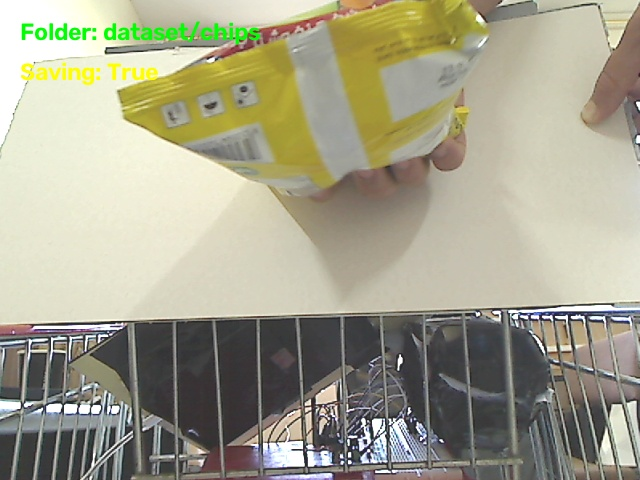chips: (119, 0, 487, 195)
